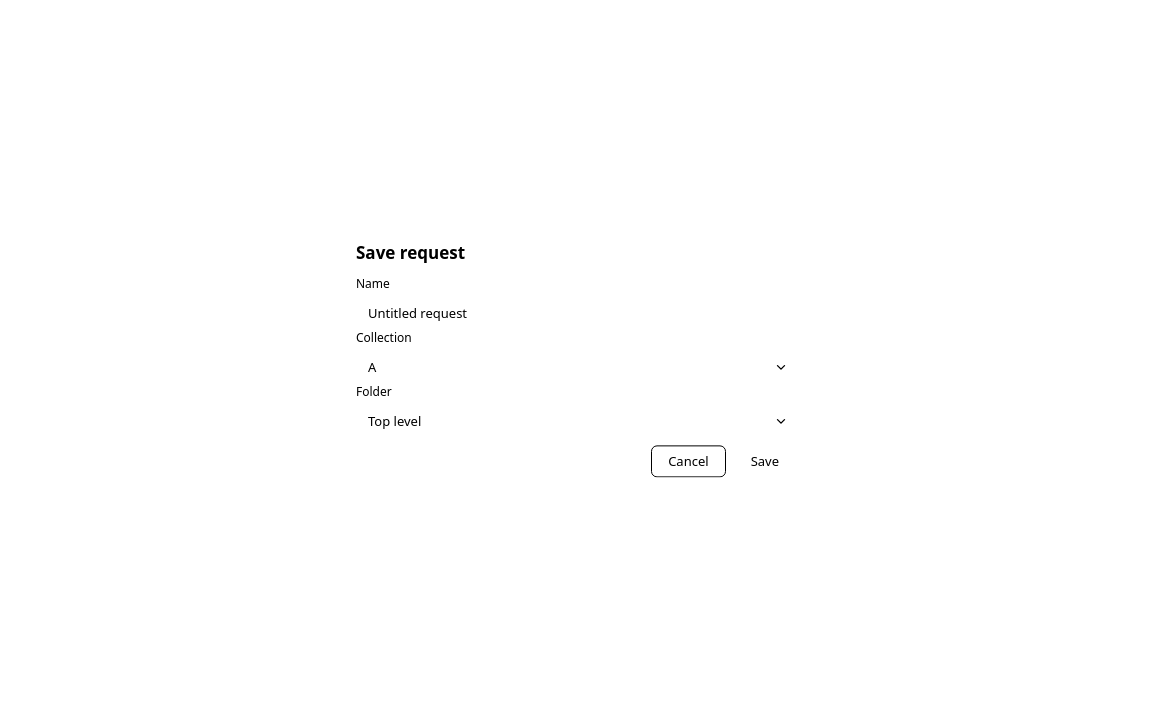
SaveDialog › disables Save for an empty name
Clear the field labelled "Name": [576, 314] box [356,298,796,330]
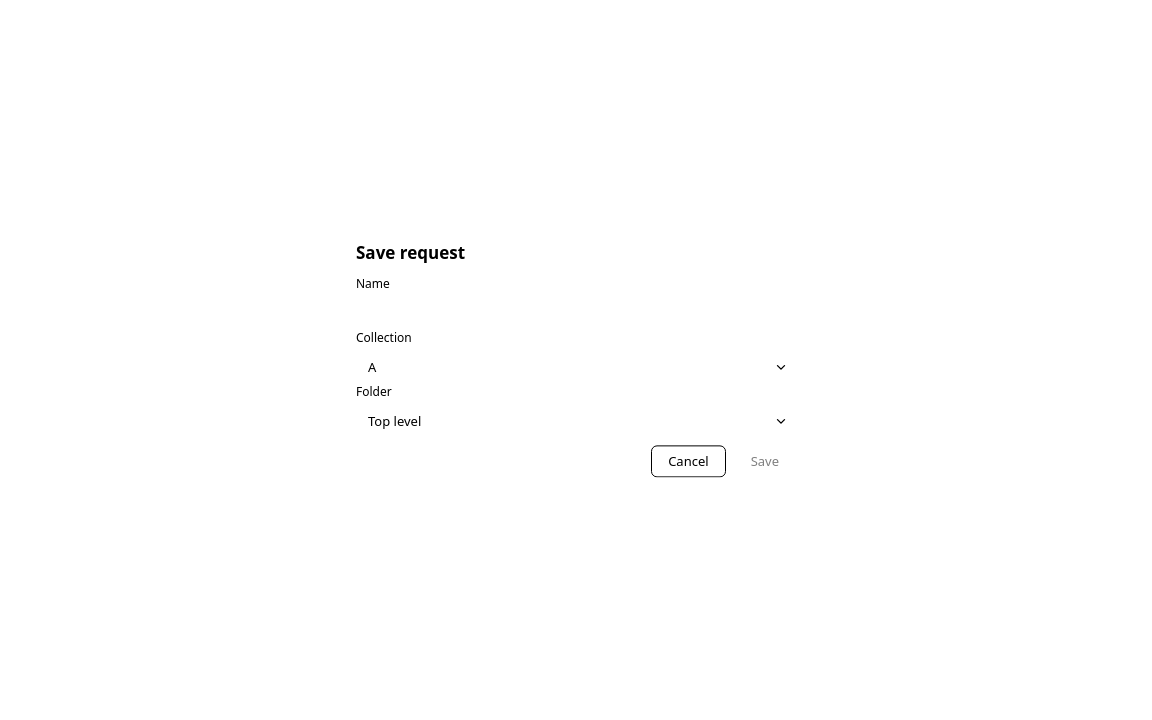
Expected: the button "Save" is disabled, [734,446,796,478]
